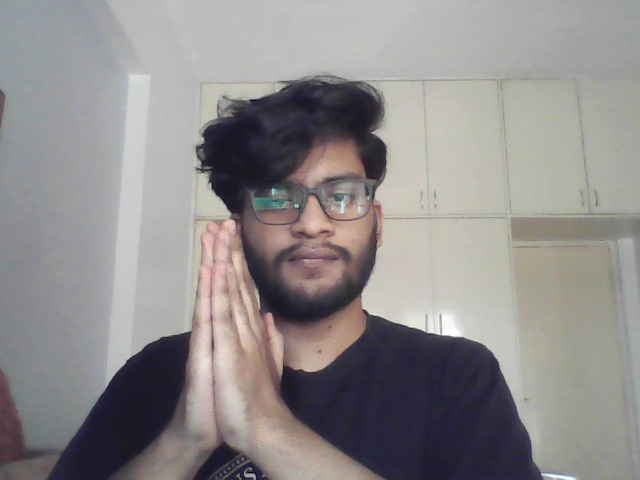Namaskara: (179, 217, 288, 458)
